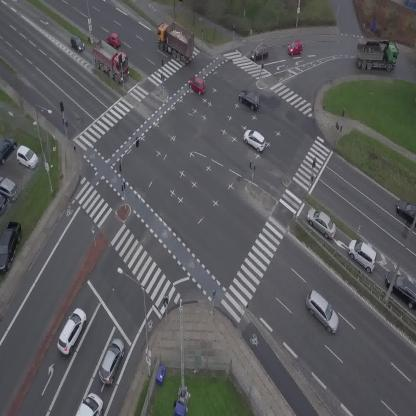car: (299, 288, 347, 335), (52, 306, 91, 357), (95, 336, 129, 387), (342, 235, 384, 274), (301, 205, 342, 241), (240, 126, 269, 153), (236, 87, 263, 112), (65, 33, 87, 55), (186, 75, 209, 96), (105, 31, 123, 50), (249, 45, 269, 60), (287, 40, 302, 55)
lorry: (83, 34, 137, 85), (148, 17, 202, 66), (357, 39, 399, 71), (75, 393, 103, 416)
